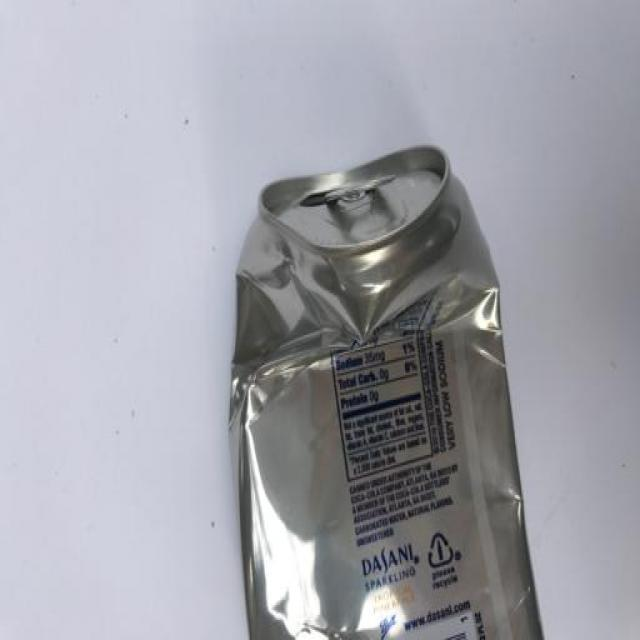metal-can: (230, 138, 544, 640)
